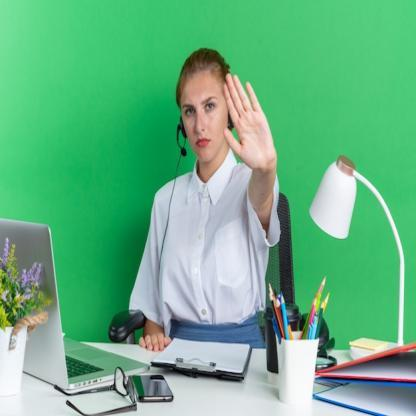stop: (220, 70, 281, 178)
